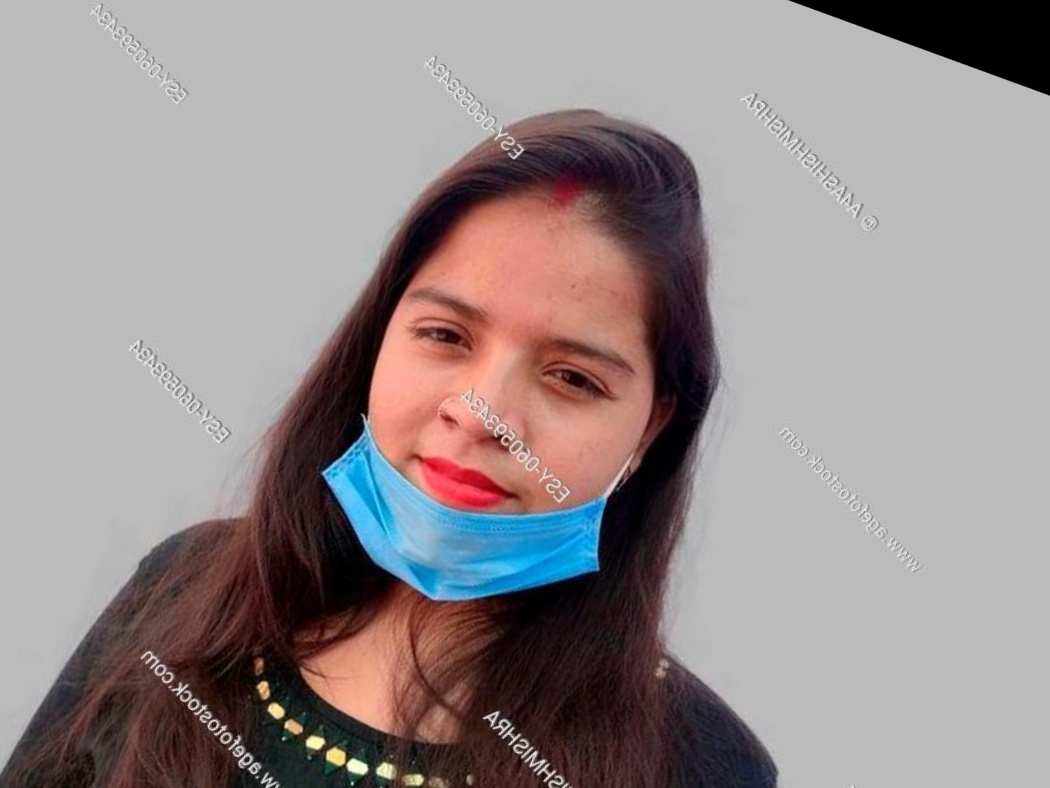mask_weared_incorrect: (353, 182, 642, 596)
